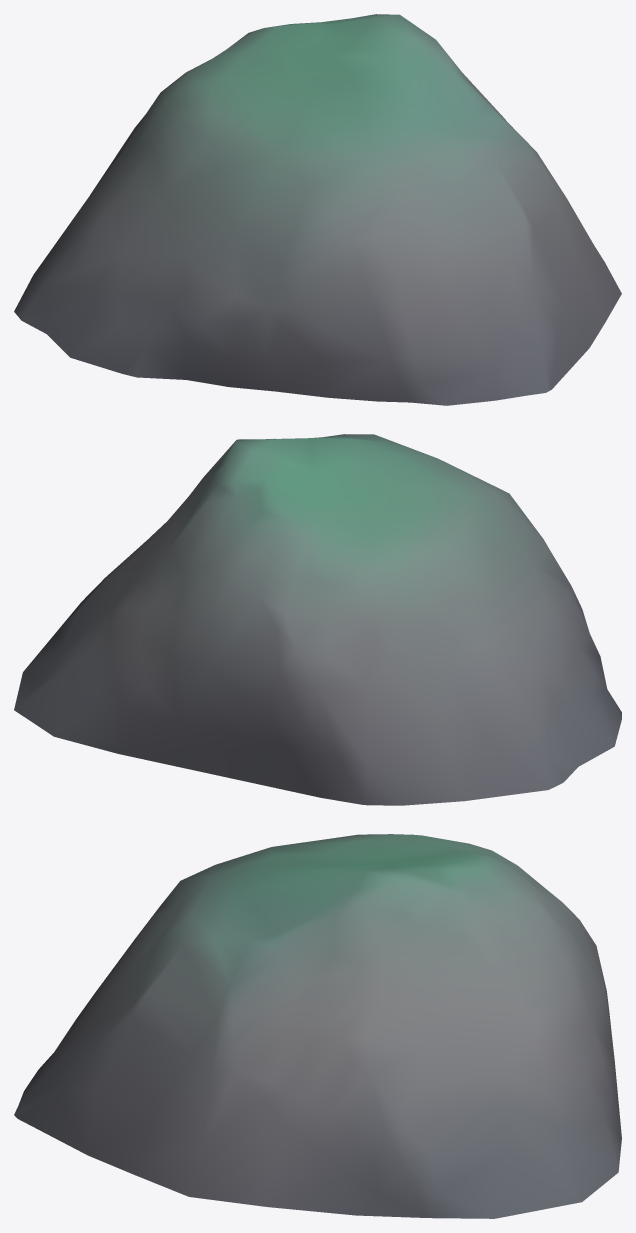
File: S_BoulderMedium_Moss_VarA.fbx
3 views of the same model, one above another, from view 1: azimuth 30°, elevation 25°; view 2: azimuth 150°, elevation 25°; view 3: azimuth 270°, elevation 25° (orthographic). The views are drawn at different scales.
Visible parts, largest first — view 1: S_BoulderMedium_Moss_VarA_GEO; view 2: S_BoulderMedium_Moss_VarA_GEO; view 3: S_BoulderMedium_Moss_VarA_GEO.
Part boxes in pixels (x1,y1,x2,y2): S_BoulderMedium_Moss_VarA_GEO: (14, 14, 621, 405); S_BoulderMedium_Moss_VarA_GEO: (14, 434, 621, 805); S_BoulderMedium_Moss_VarA_GEO: (14, 834, 621, 1218).
Size of the model in its own units: 4.95 by 2.16 by 4.72.
